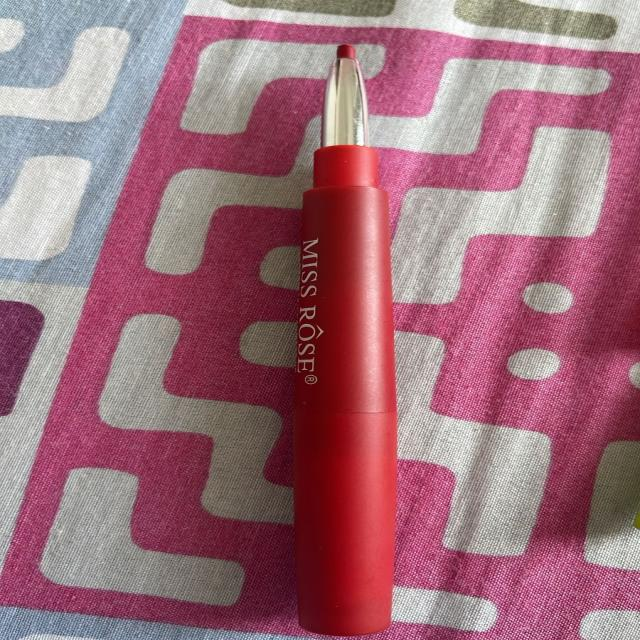eye liner: (278, 26, 453, 640)
